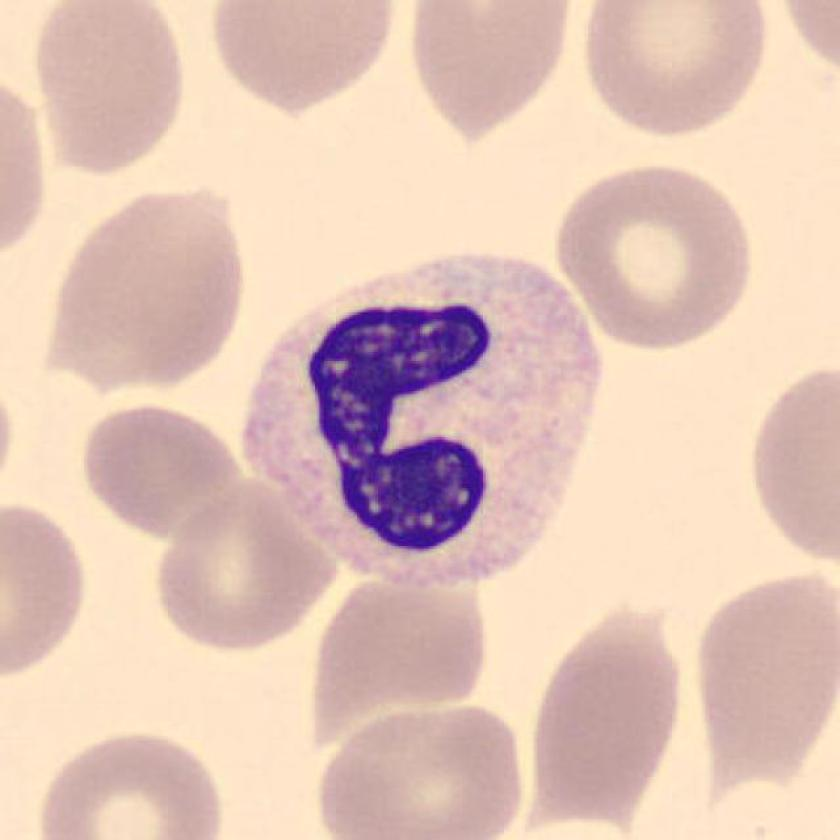neutrophil: (243, 252, 604, 588)
